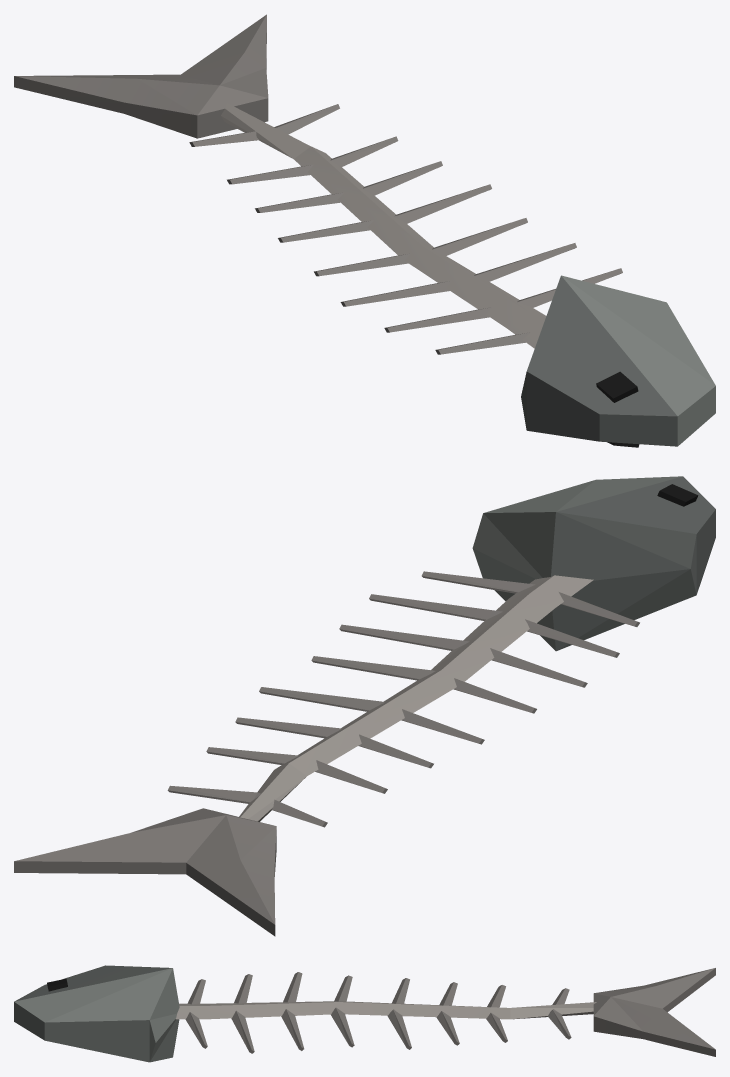
Rendered from Pescado_Esqueleto.glb.
3 renders of one model, top to bottom at view 1: azimuth 30°, elevation 25°; view 2: azimuth 150°, elevation 25°; view 3: azimuth 270°, elevation 25°, orthographic. The views are drawn at different scales.
Visible parts, largest first — view 1: SM_Prop_Fish_Dead_02_1; view 2: SM_Prop_Fish_Dead_02_1; view 3: SM_Prop_Fish_Dead_02_1.
Part boxes in pixels (left/top/right/bottom): SM_Prop_Fish_Dead_02_1: left=14, top=14, right=715, bottom=447; SM_Prop_Fish_Dead_02_1: left=14, top=476, right=715, bottom=936; SM_Prop_Fish_Dead_02_1: left=14, top=965, right=715, bottom=1062.
Bounding box in the file's own units: 0.2739 × 0.1375 × 0.9767.
1 material, 1 textured.
